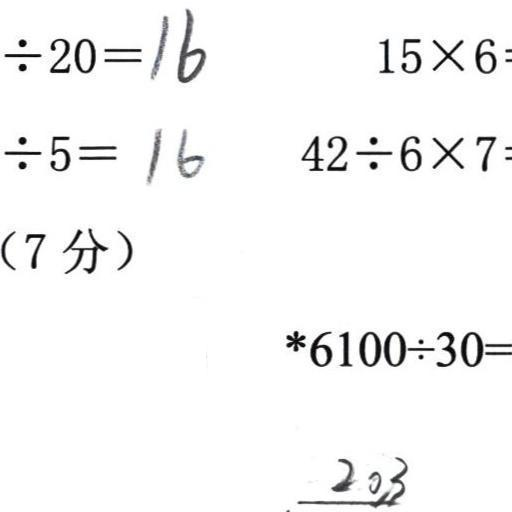ans: (145, 3, 206, 84), (139, 120, 203, 184)
